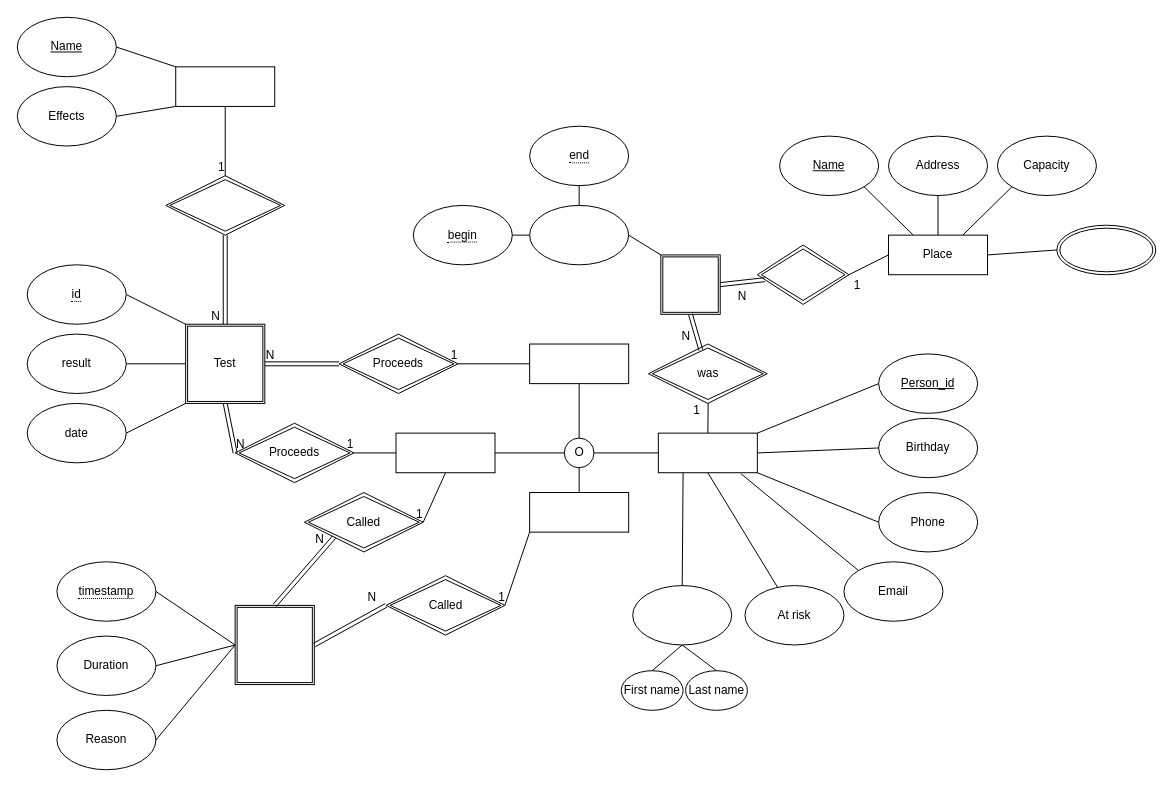
This 1173x787 diagram has some shape labels left out. Each missing label, with the centre of its shape:
"Call" goes at point 274,644.
"Call centerist" goes at point 579,512.
"Disease" goes at point 225,86.
"Full name" goes at point 682,615.
"is place of" goes at point 802,274.
"Patient" goes at point 445,452.
"Person" goes at point 707,452.
"Practioner" goes at point 579,363.
"Test for" goes at point 225,205.
"Type" goes at point 1106,249.
"Visit" goes at point 690,284.
"visit_timestamp" goes at point 579,234.
